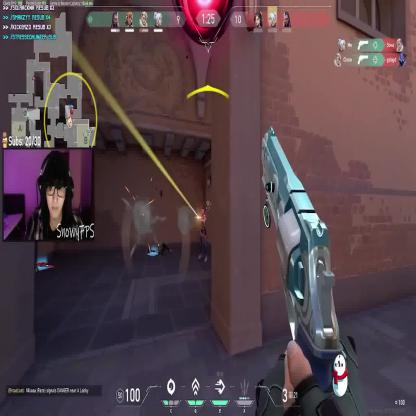enemy: (198, 205, 208, 262)
enemy_head: (200, 206, 204, 215)
